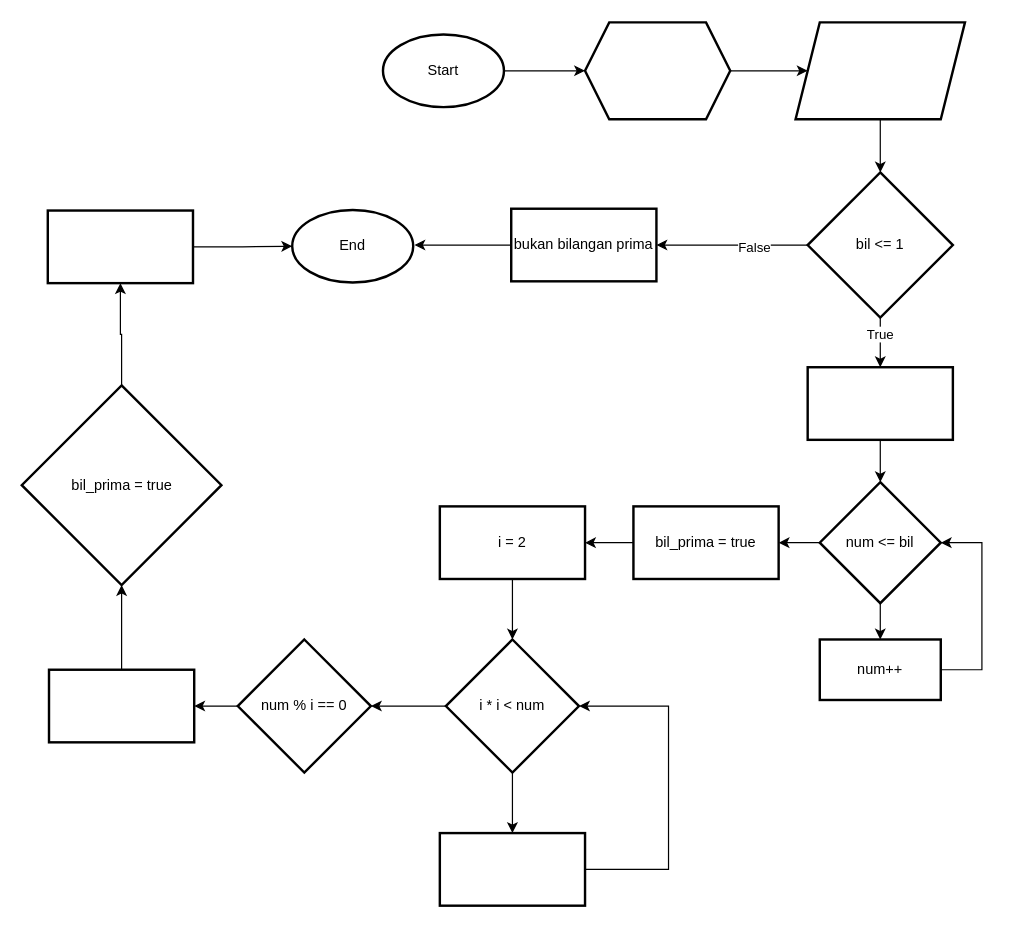
The diagram is 1013 pixels wide and 927 high, and some of its shapes have lost their labels. The centre of each missing label's shape, as x and y in pixels:
bil_prima = false: (121,705)
cout << num << " ": (120,246)
i++: (512,868)
Masukan Bilangan cin >> bil: (880,70)
num = 2: (879,402)
num, bil, i : int bil_prima : bool: (657,70)
